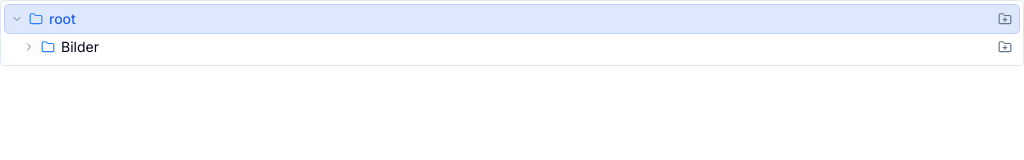
Test: FolderTreePicker › klappt Unterordner beim Klick auf den Expand-Button aus und laedt sie nach
Expected: the text "Bilder" is shown, [61, 37, 99, 57]
Click the button named "Bilder erweitern". click: [29, 47]
box: [21, 39, 37, 55]
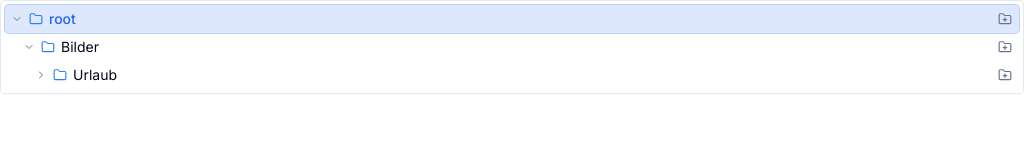
Expected: the text "Urlaub" is shown, [73, 65, 117, 85]
